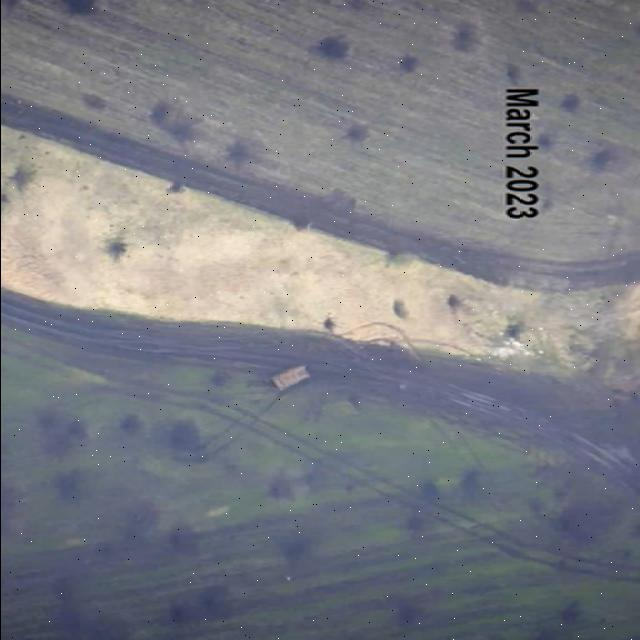APC-IFV: (260, 360, 322, 391)
